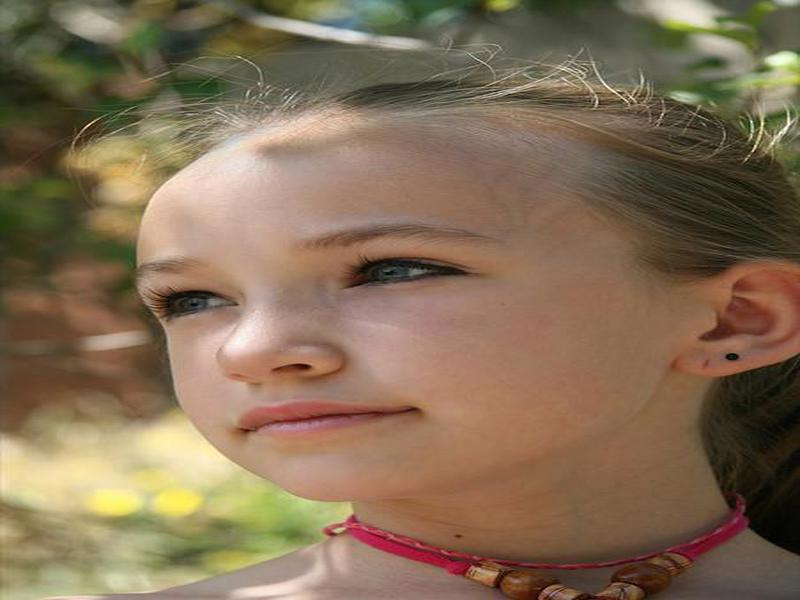person: (118, 58, 787, 600)
